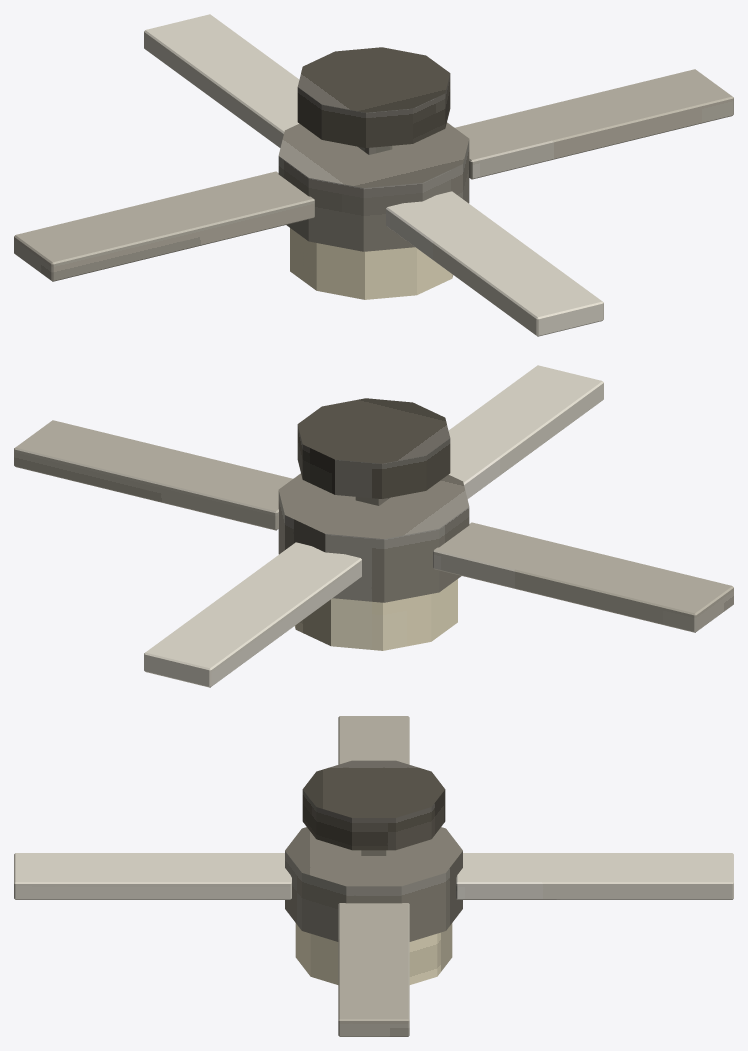
Rendered from ceiling_fan_ivory.glb.
The picture shows the model from 3 angles, top to bottom: view 1: azimuth 30°, elevation 25°; view 2: azimuth 150°, elevation 25°; view 3: azimuth 270°, elevation 25°; orthographic projection. The views are drawn at different scales.
Parts seen in each view (by area): view 1: FanBlade_3, FanMotor, FanBlade_1, FanBlade_4, CeilingCanopy, FanBlade_2, FanLight; view 2: FanBlade_3, FanMotor, FanBlade_1, FanBlade_2, CeilingCanopy, FanBlade_4, FanLight; view 3: FanMotor, FanBlade_2, FanBlade_4, CeilingCanopy, FanBlade_1, FanLight, FanBlade_3.
Part boxes in pixels (<box>): FanBlade_3: <box>14,171,314,281</box>; FanMotor: <box>278,122,469,251</box>; FanBlade_1: <box>455,69,733,179</box>; FanBlade_4: <box>386,191,603,336</box>; CeilingCanopy: <box>297,47,450,147</box>; FanBlade_2: <box>144,14,299,147</box>; FanLight: <box>290,228,453,299</box>; FanBlade_3: <box>433,522,733,632</box>; FanMotor: <box>278,473,469,602</box>; FanBlade_1: <box>14,420,292,530</box>; FanBlade_2: <box>144,542,361,687</box>; CeilingCanopy: <box>297,398,450,498</box>; FanBlade_4: <box>448,365,603,498</box>; FanLight: <box>294,579,457,650</box>; FanMotor: <box>285,827,462,941</box>; FanBlade_2: <box>456,853,733,899</box>; FanBlade_4: <box>14,853,291,899</box>; CeilingCanopy: <box>302,760,445,850</box>; FanBlade_1: <box>338,903,409,1036</box>; FanLight: <box>295,923,452,984</box>; FanBlade_3: <box>338,716,409,764</box>.
Size of the model in its own units: 2.02 by 0.52 by 2.02.
Materials: 1 (1 with a texture image).
